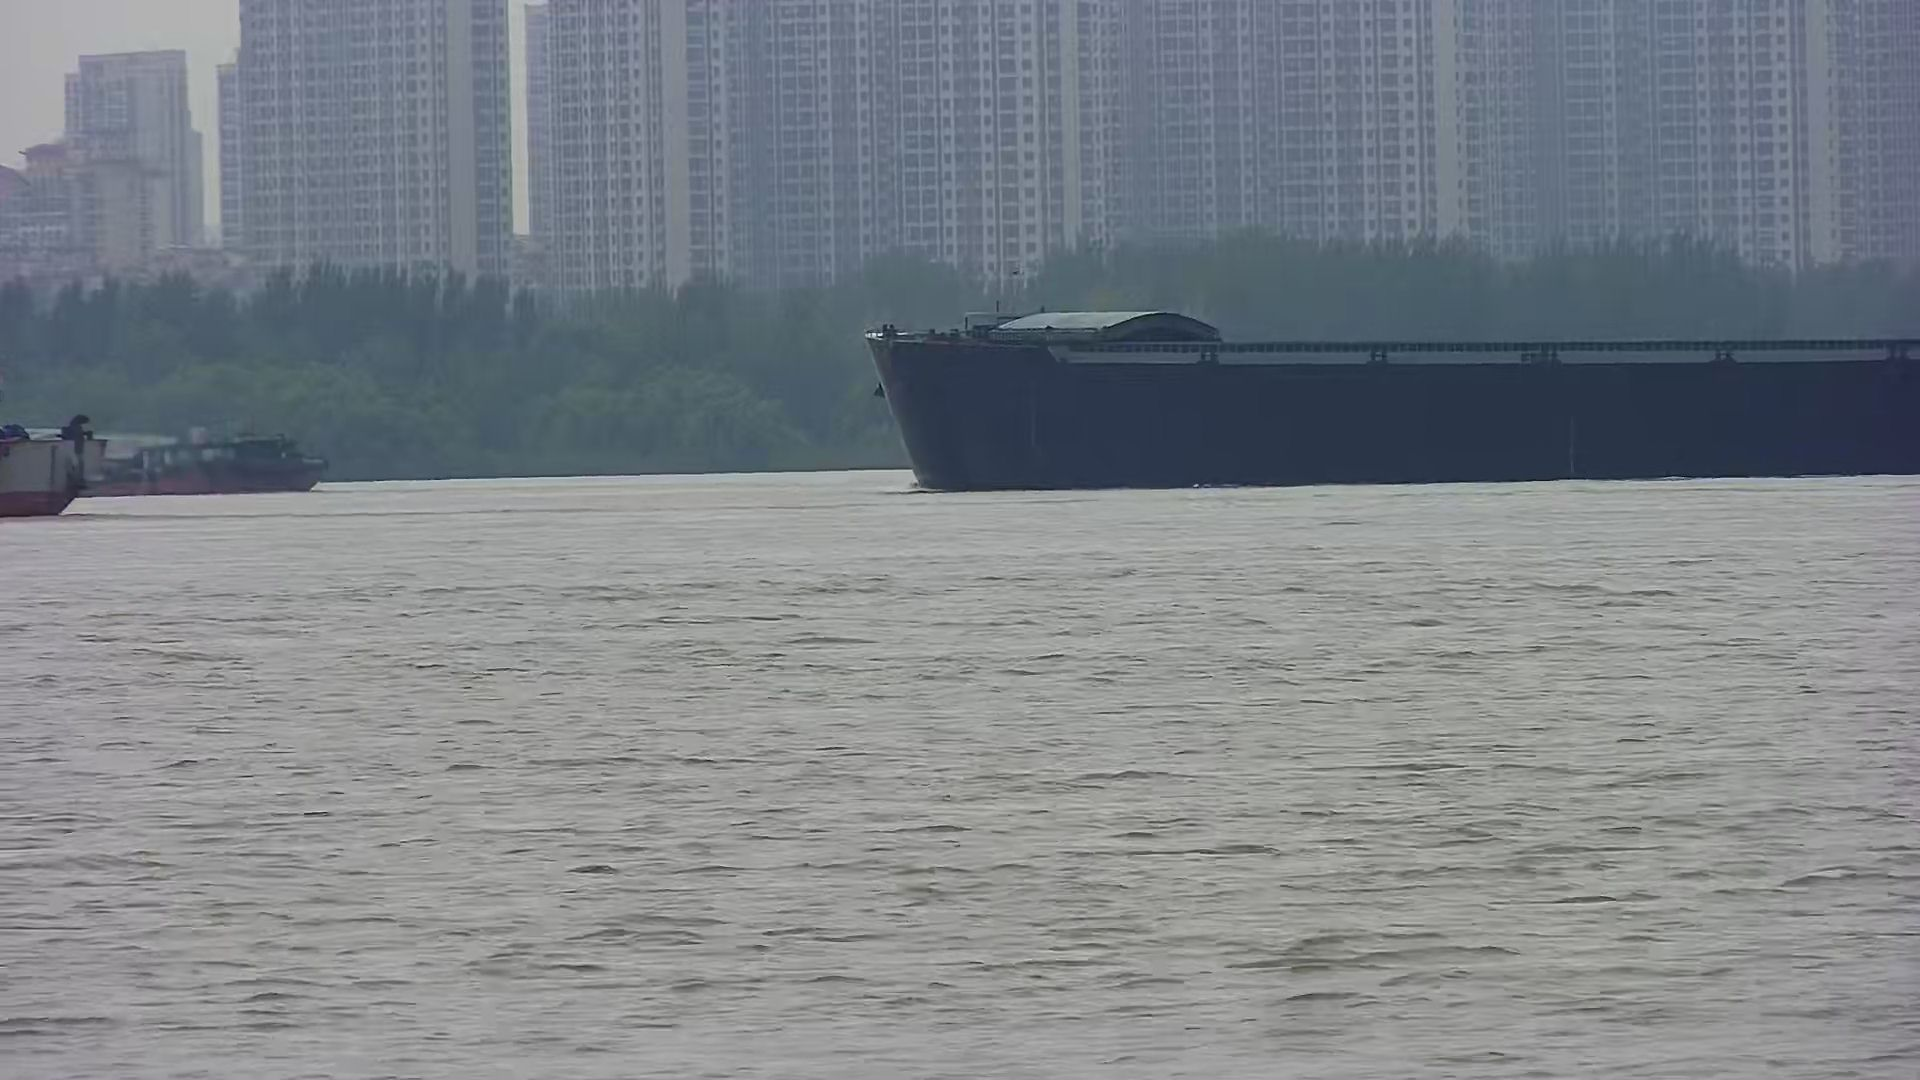ship: (868, 297, 1919, 495), (88, 426, 334, 495), (1, 410, 107, 516)
